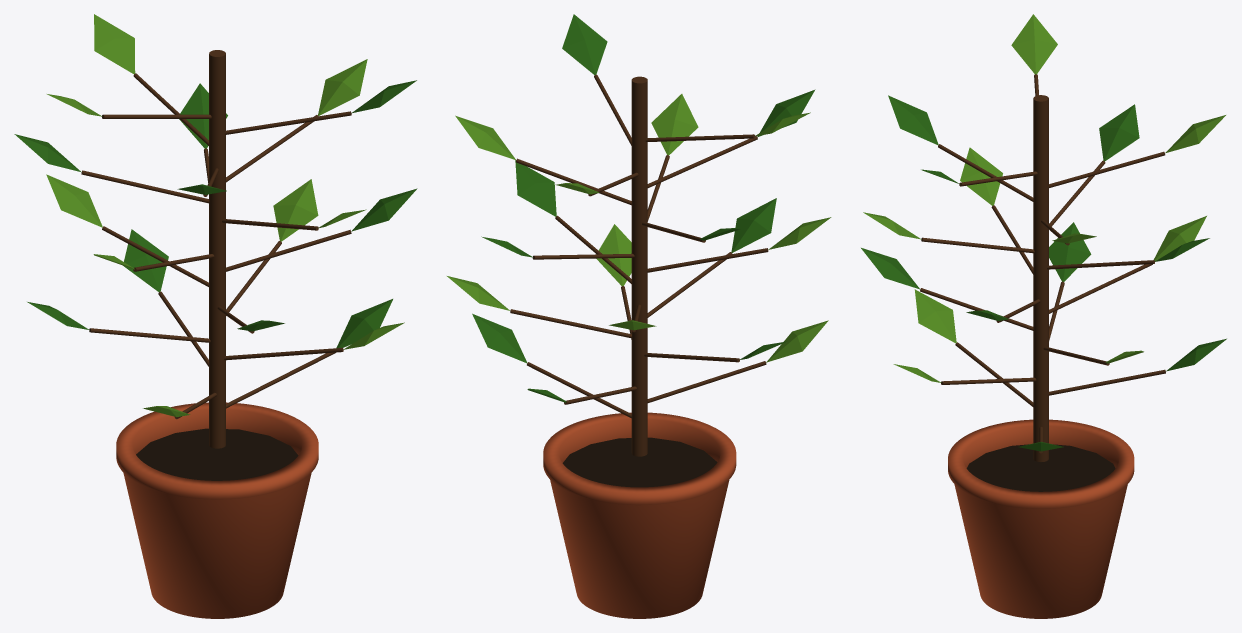
Rendered from Fikusz_cserepben.obj.
3 views of the same model, side by side, from view 1: azimuth 30°, elevation 25°; view 2: azimuth 150°, elevation 25°; view 3: azimuth 270°, elevation 25° (orthographic). The views are drawn at different scales.
Size of the model in its own units: 0.9596 by 1.41 by 0.9417.
